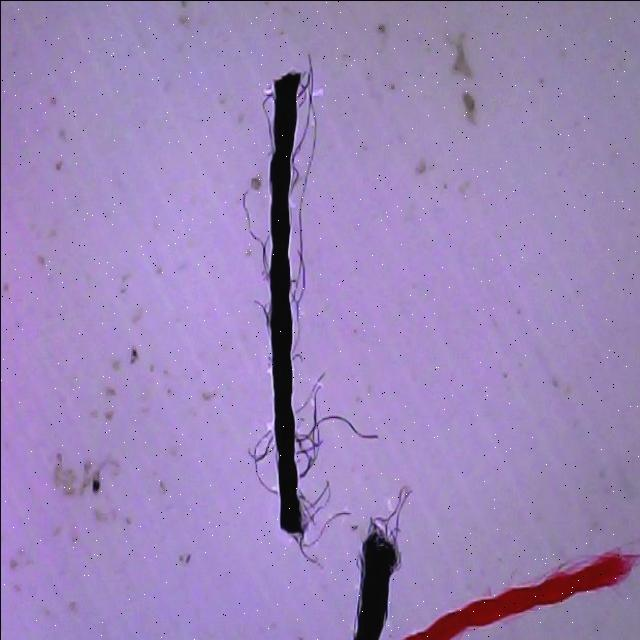Fibre: (266, 70, 312, 544)
